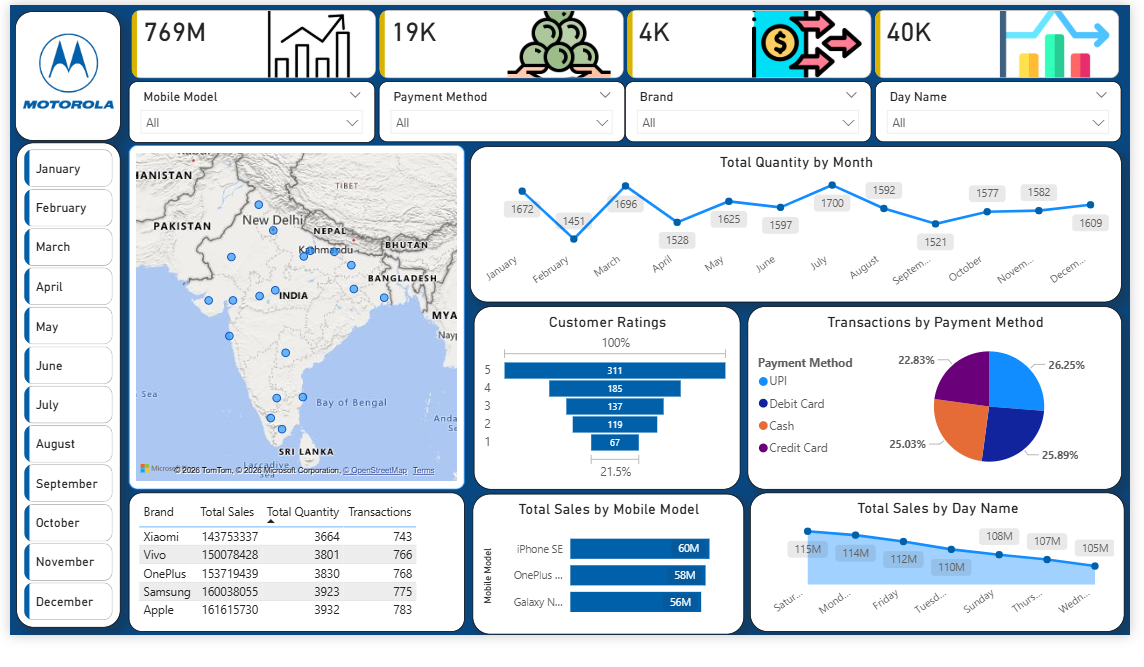

The page's visual inventory and layout, read from the dashboard file:
{"tool":"powerbi","page":{"name":"Page 1","canvas":[1280,720],"ordinal":0},"visuals":[{"type":"shape","box":[5.5,6.9,120.8,148.2],"z":0},{"type":"image","box":[9.6,16.5,113.9,116.6],"z":1000},{"type":"shape","box":[6.9,156.4,119.4,554.4],"z":2000},{"type":"advancedSlicerVisual","fields":{"Values":["Sales_Data.Date.Variation.Date Hierarchy.Month"]},"box":[11,160.5,111.1,548.9],"z":3000},{"type":"cardVisual","fields":{"Data":["Sales_Data.Total Sales","Sales_Data.Total Quantity","Sales_Data.Transactions","Sales_Data.Average"]},"box":[134,5.6,1140.1,83.7],"z":4000},{"type":"lineChart","fields":{"Y":["Sales_Data.Total Quantity"],"Category":["Sales_Data.Date.Variation.Date Hierarchy.Month","Sales_Data.Date.Variation.Date Hierarchy.Day"]},"box":[525.9,160.8,744.8,178.7],"z":5000},{"type":"clusteredBarChart","fields":{"Category":["Sales_Data.Mobile Model"],"Y":["Sales_Data.Total Sales"]},"box":[528.3,558.5,310.1,160.5],"z":6000},{"type":"pieChart","fields":{"Category":["Sales_Data.Payment Method"],"Y":["Sales_Data.Transactions"]},"box":[842.5,344.4,428.1,209.9],"z":7000},{"type":"funnel","title":"Customer Ratings","fields":{"Category":["Sales_Data.Customer Ratings"],"Y":["CountNonNull(Sales_Data.Customer Ratings)"]},"box":[529.7,344.4,304.6,209.9],"z":8000},{"type":"areaChart","fields":{"Category":["Sales_Data.Day Name"],"Y":["Sales_Data.Total Sales"]},"box":[845.3,557.1,428.1,159.2],"z":9000},{"type":"tableEx","fields":{"Values":["Sales_Data.Brand","Sales_Data.Total Sales","Sales_Data.Total Quantity","Sales_Data.Transactions"]},"box":[135.8,557.1,384.2,159.2],"z":10000},{"type":"slicer","fields":{"Values":["Sales_Data.Mobile Model"]},"box":[136.2,87.1,281.4,70.3],"z":11000},{"type":"slicer","fields":{"Values":["Sales_Data.Payment Method"]},"box":[421,87.1,281.4,69.2],"z":12000},{"type":"slicer","fields":{"Values":["Sales_Data.Brand"]},"box":[703.5,87.1,281.4,69.2],"z":13000},{"type":"slicer","fields":{"Values":["Sales_Data.Day Name"]},"box":[988.2,87.1,281.4,69.2],"z":14000},{"type":"map","fields":{"Category":["Sales_Data.City"]},"box":[136.3,160.5,383.6,393.3],"z":15000}]}

Visuals, with their boxes in screenshot pixels (x1, y1, x2, y2):
shape: [x1=11, y1=6, x2=117, y2=137]
image: [x1=14, y1=15, x2=115, y2=117]
shape: [x1=12, y1=138, x2=117, y2=626]
advancedSlicerVisual - Sales_Data.Date.Variation.Date Hierarchy.Month: [x1=16, y1=141, x2=114, y2=625]
cardVisual - Sales_Data.Total Sales x Sales_Data.Total Quantity: [x1=124, y1=5, x2=1129, y2=79]
lineChart - Sales_Data.Total Quantity x Sales_Data.Date.Variation.Date Hierarchy.Month: [x1=469, y1=142, x2=1126, y2=299]
clusteredBarChart - Sales_Data.Mobile Model x Sales_Data.Total Sales: [x1=472, y1=492, x2=745, y2=634]
pieChart - Sales_Data.Payment Method x Sales_Data.Transactions: [x1=749, y1=304, x2=1126, y2=489]
"Customer Ratings" funnel: [x1=473, y1=304, x2=741, y2=489]
areaChart - Sales_Data.Day Name x Sales_Data.Total Sales: [x1=751, y1=491, x2=1128, y2=631]
tableEx - Sales_Data.Brand x Sales_Data.Total Sales: [x1=126, y1=491, x2=464, y2=631]
slicer - Sales_Data.Mobile Model: [x1=126, y1=77, x2=374, y2=139]
slicer - Sales_Data.Payment Method: [x1=377, y1=77, x2=625, y2=138]
slicer - Sales_Data.Brand: [x1=626, y1=77, x2=874, y2=138]
slicer - Sales_Data.Day Name: [x1=877, y1=77, x2=1125, y2=138]
map - Sales_Data.City: [x1=126, y1=141, x2=464, y2=488]
